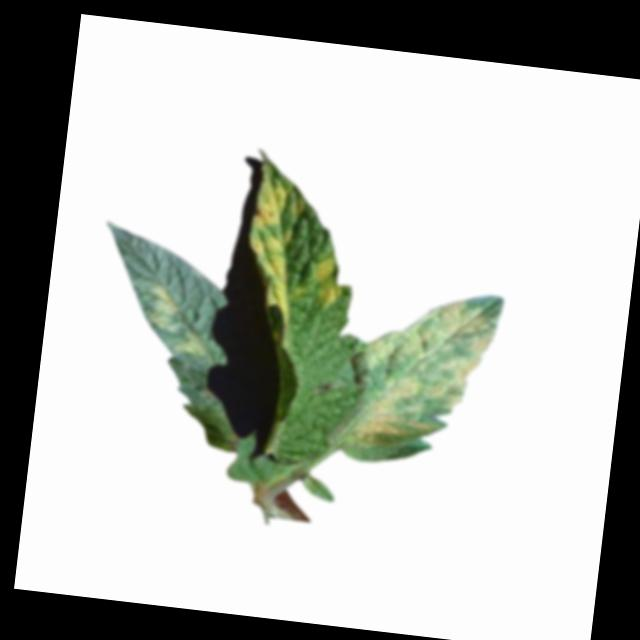Leaf_Mold: (349, 288, 499, 459), (238, 158, 310, 328), (309, 254, 346, 314), (144, 281, 185, 334), (173, 332, 208, 358)
